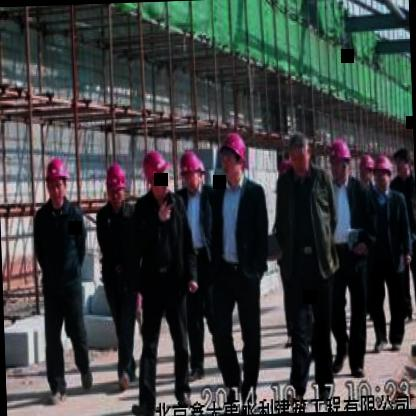head: (286, 124, 312, 178), (395, 144, 415, 182)
helmet: (216, 128, 249, 184), (142, 147, 171, 201), (43, 154, 71, 206), (178, 146, 205, 196), (104, 158, 128, 212), (328, 133, 352, 182), (371, 154, 396, 195), (360, 151, 378, 190)
